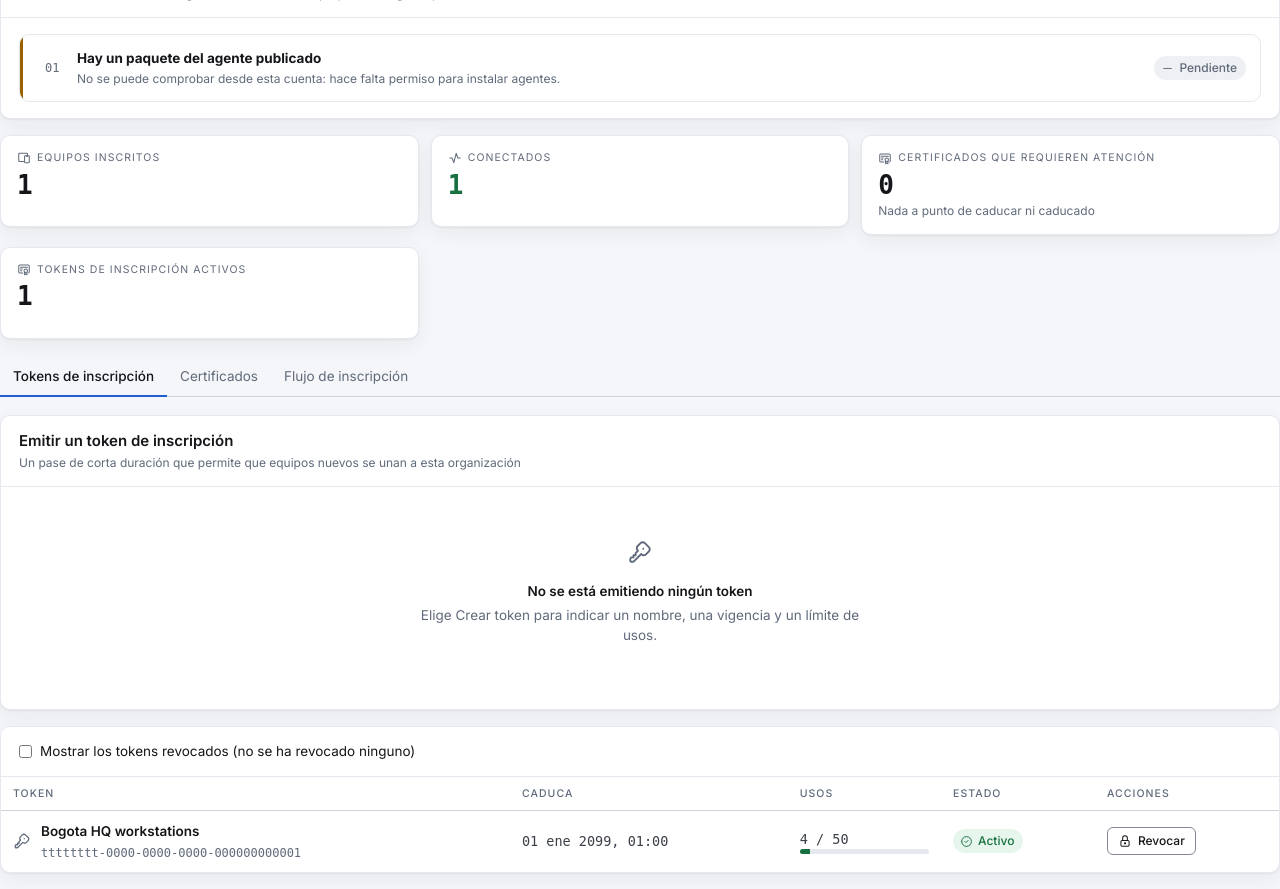
Test case: the enrollment page in Spanish › words the revoke confirmations and a refused revoke
(page scrolled)
Expected: the text "Bogota HQ workstations" is shown, [41,823,200,839]
What coordinates should you click on to do the following:
click the button "Revocar"
I would click on:
 (1151, 842)
Its box is [1107,828,1196,856].
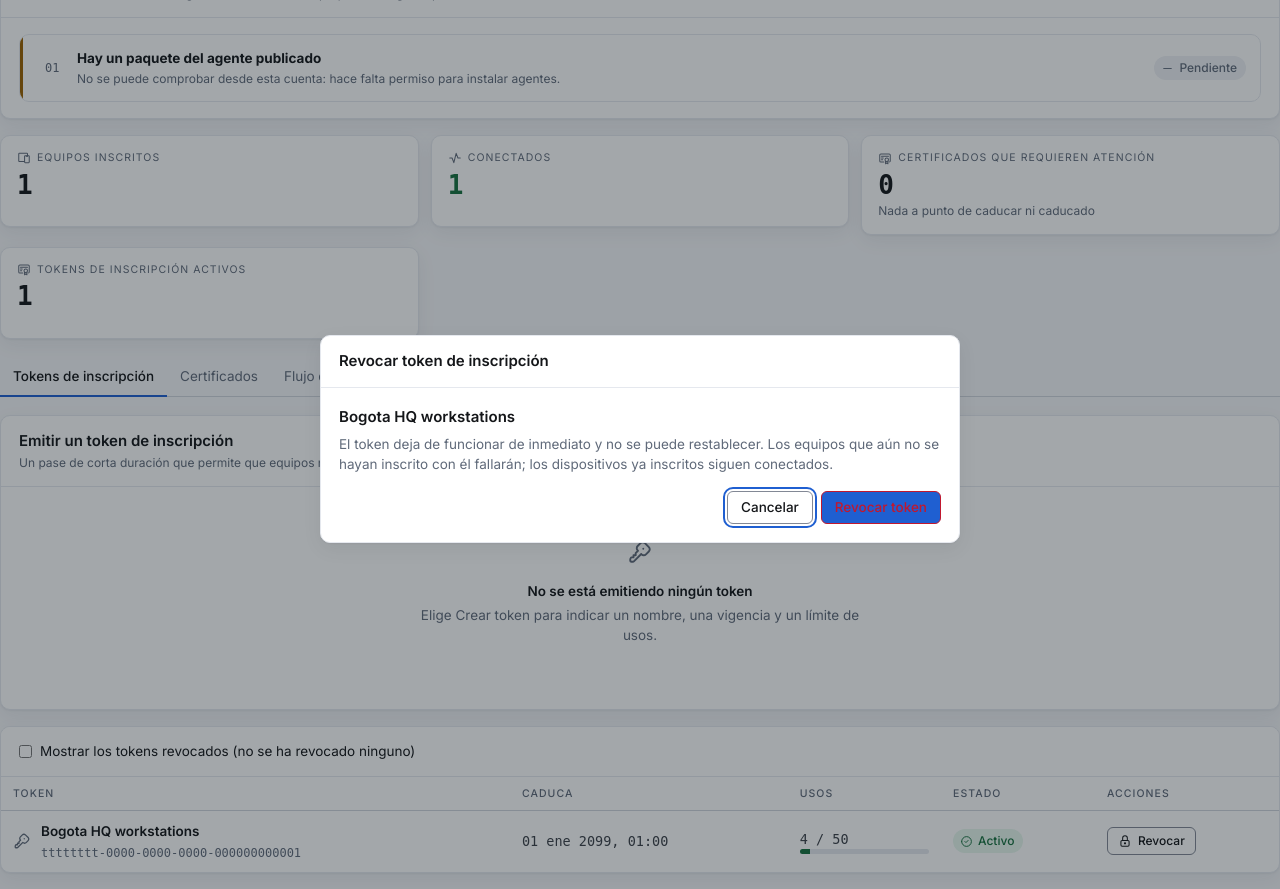
Expected: the text "El token deja de funcionar de inmediato" is shown, [339,436,939,472]
What coordinates should you click on to do the following:
click the button "Revocar token"
I would click on:
 (881, 507)
Its box is [821,490,941,524].
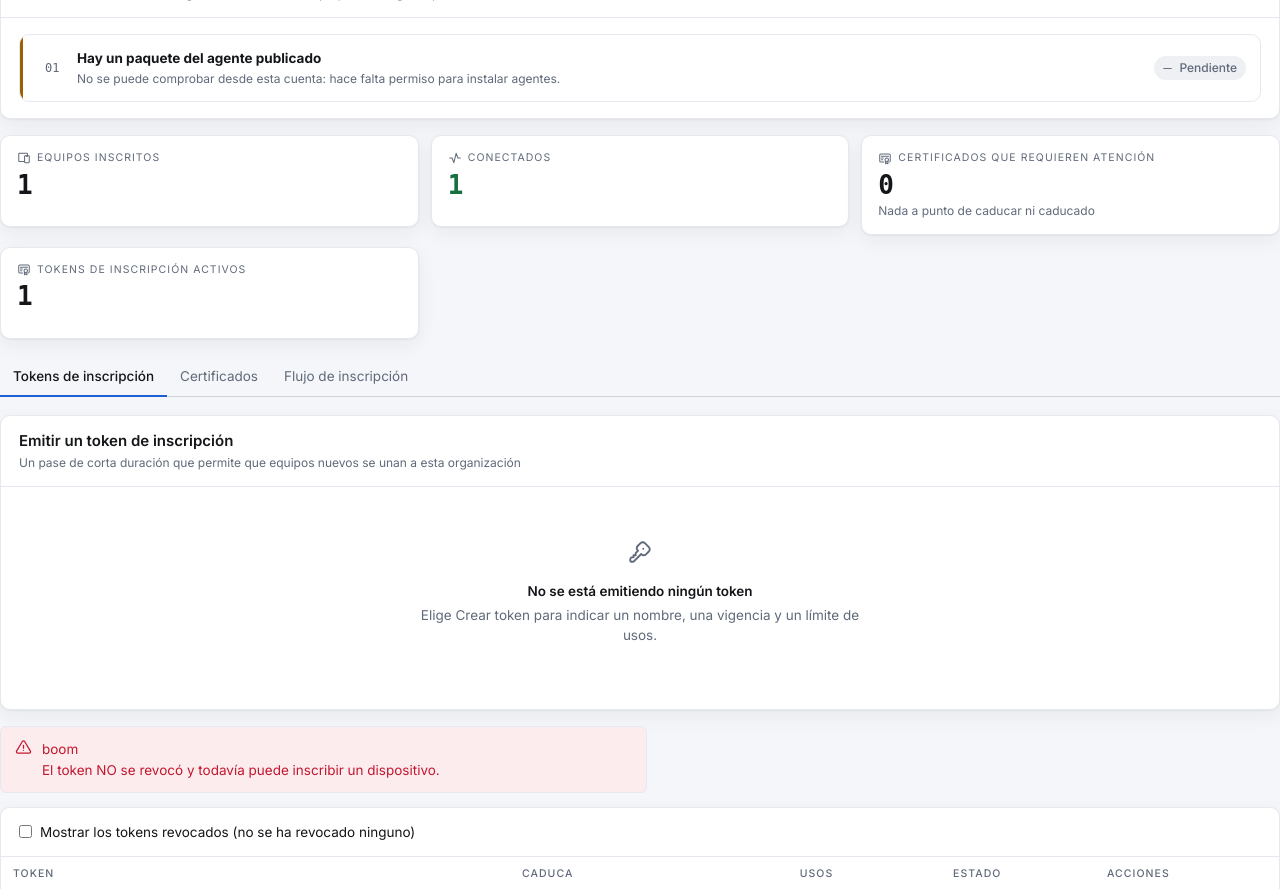
Expected: the message shows "El token NO se revocó y todavía puede inscribir un dispositivo.", [42,762,440,778]
